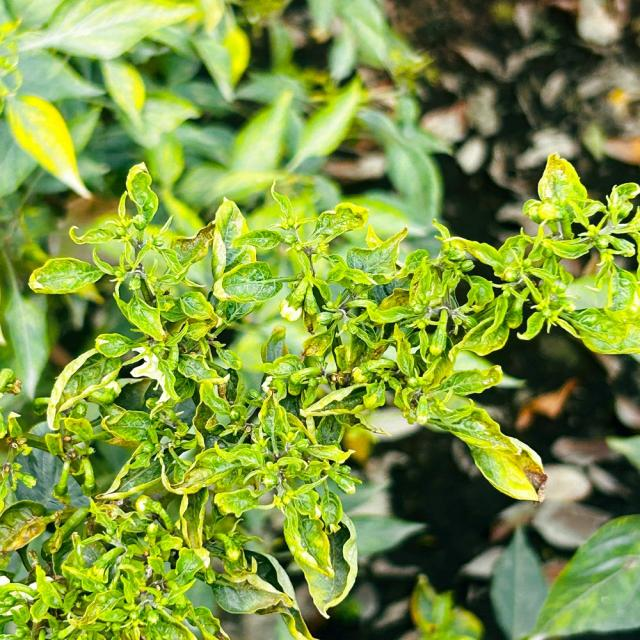Chilli_Leaf_Curl: (2, 150, 638, 638)
